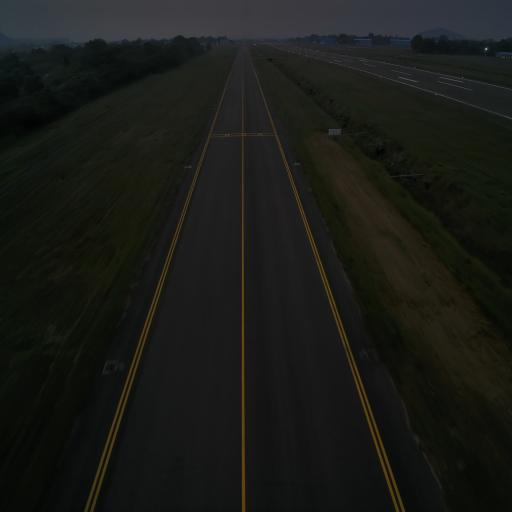on: (294, 160, 297, 164), (189, 162, 191, 166), (271, 104, 273, 108), (213, 106, 214, 108)
